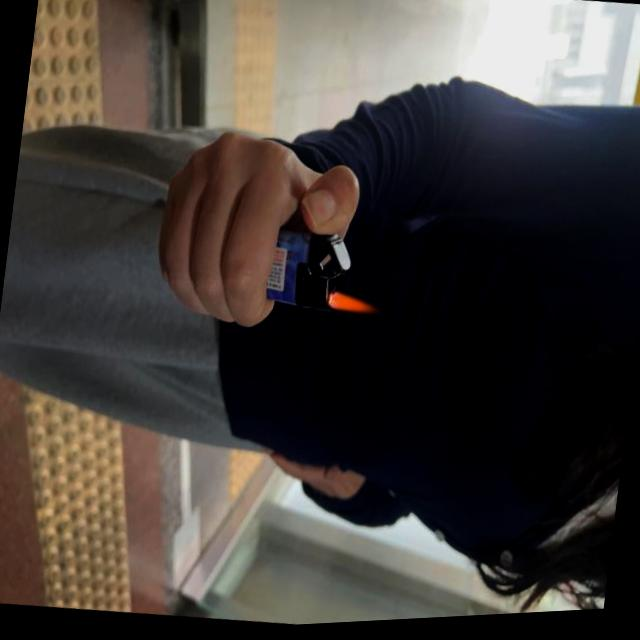helmet: (330, 291, 378, 321)
